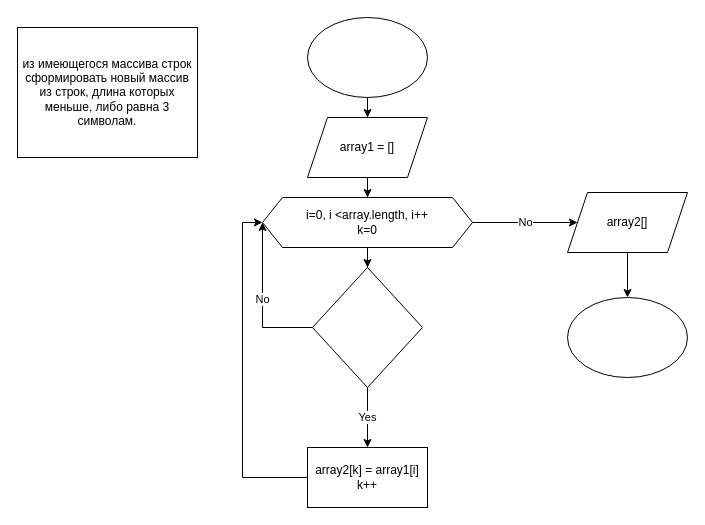
The diagram is 705 pixels wide and 525 high, and some of its shapes have lost their labels. Each missing label, with the box of its shape:
array1[i].Lenth <4: (312, 266, 422, 388)
FINISH: (566, 296, 688, 378)
START: (306, 16, 428, 98)
